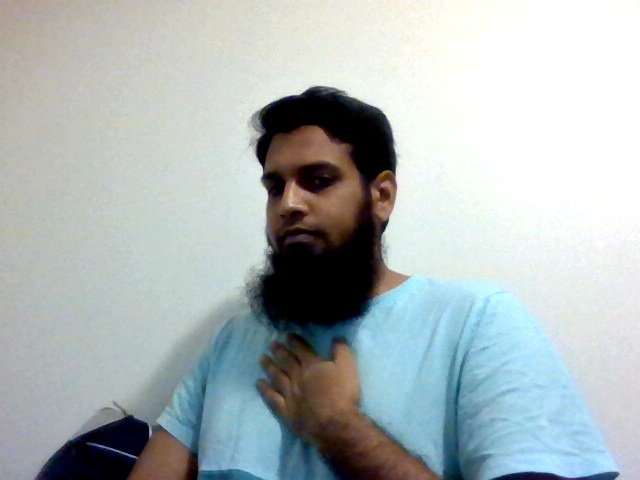please: (252, 329, 367, 455)
